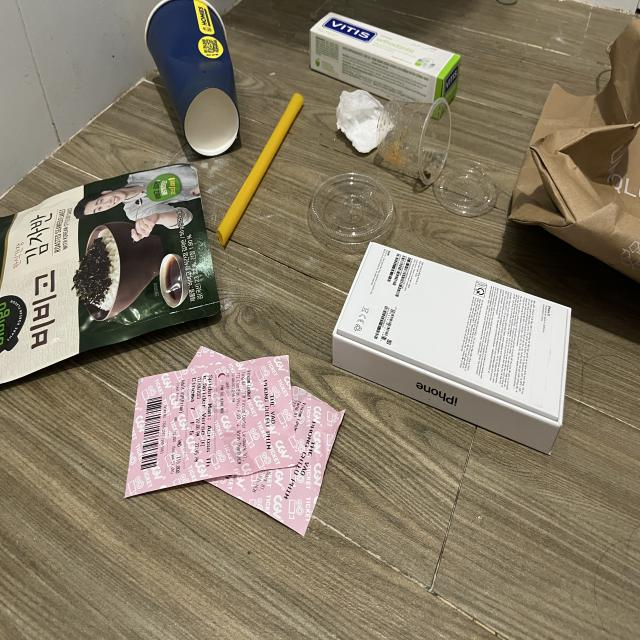bag: (508, 18, 640, 282)
cardboard box: (332, 242, 574, 457), (309, 11, 459, 122)
drinking straw: (216, 93, 304, 248)
lid: (308, 172, 396, 248), (435, 159, 496, 217)
napkin: (336, 87, 394, 153)
paper: (124, 347, 345, 536)
plastic glass: (143, 0, 239, 155), (377, 98, 452, 186)
snack package: (0, 163, 223, 386)
